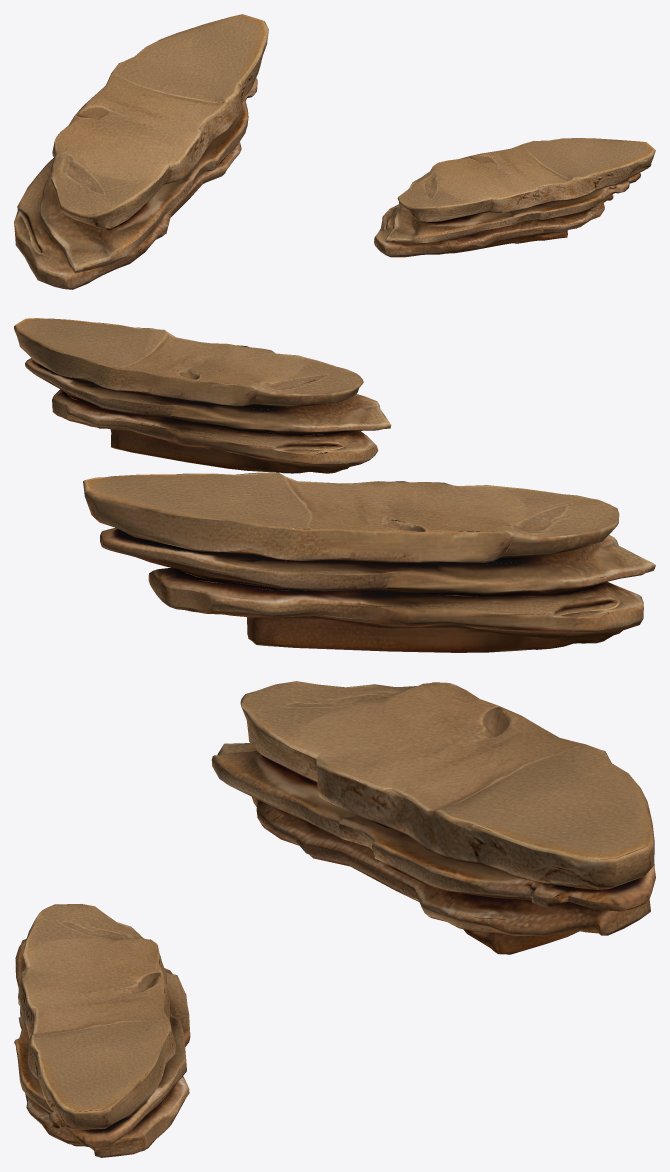
Rendered from desert_ledge_b_pair.glb.
The picture shows the model from 3 angles, top to bottom: view 1: azimuth 30°, elevation 25°; view 2: azimuth 150°, elevation 25°; view 3: azimuth 270°, elevation 25°; orthographic projection. The views are drawn at different scales.
Visible parts, largest first — view 1: desert_ledge_b_pair; view 2: desert_ledge_b_pair; view 3: desert_ledge_b_pair.
Boxes of the visible parts, x1,y1,x2,y2 form: desert_ledge_b_pair: [14, 14, 655, 289]; desert_ledge_b_pair: [14, 318, 655, 652]; desert_ledge_b_pair: [14, 681, 655, 1157].
Size of the model in its own units: 4.86 by 1.04 by 3.15.
1 material, 1 textured.
